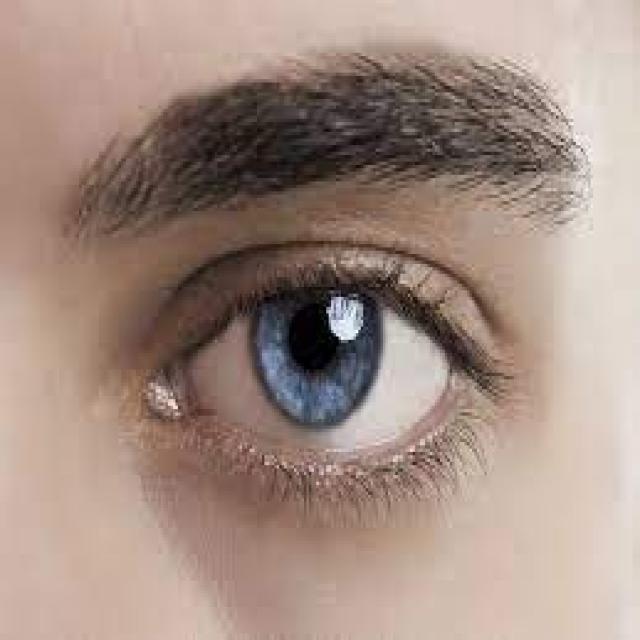Eyes-iris: (247, 290, 391, 440)
